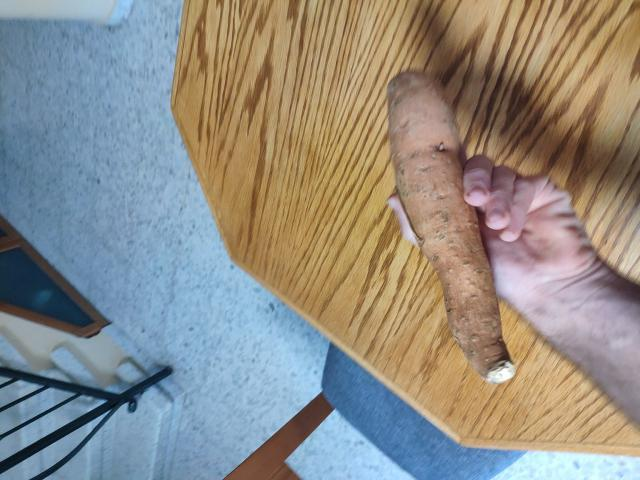sweet_potato: (370, 82, 543, 379)
